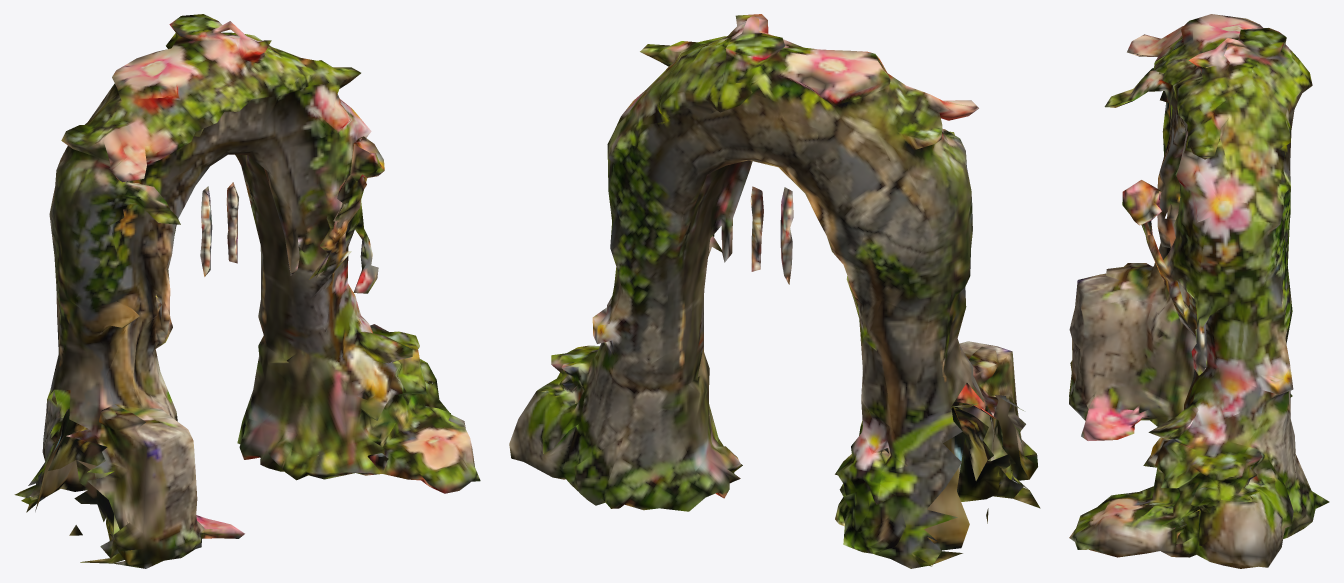
File: SpringDecor_BossRoom_BlossomArch.fbx
The picture shows the model from 3 angles, left to right: view 1: azimuth 30°, elevation 25°; view 2: azimuth 150°, elevation 25°; view 3: azimuth 270°, elevation 25°; orthographic projection. The views are drawn at different scales.
Visible parts, largest first — view 1: SpringDecor_BossRoom_BlossomArch_Mesh; view 2: SpringDecor_BossRoom_BlossomArch_Mesh; view 3: SpringDecor_BossRoom_BlossomArch_Mesh.
Part boxes in pixels (<box>): SpringDecor_BossRoom_BlossomArch_Mesh: <box>14,14,480,568</box>; SpringDecor_BossRoom_BlossomArch_Mesh: <box>509,14,1040,568</box>; SpringDecor_BossRoom_BlossomArch_Mesh: <box>1069,14,1329,568</box>.
Bounding box in the file's own units: 5.81 × 6 × 3.23.
1 material, 1 textured.
